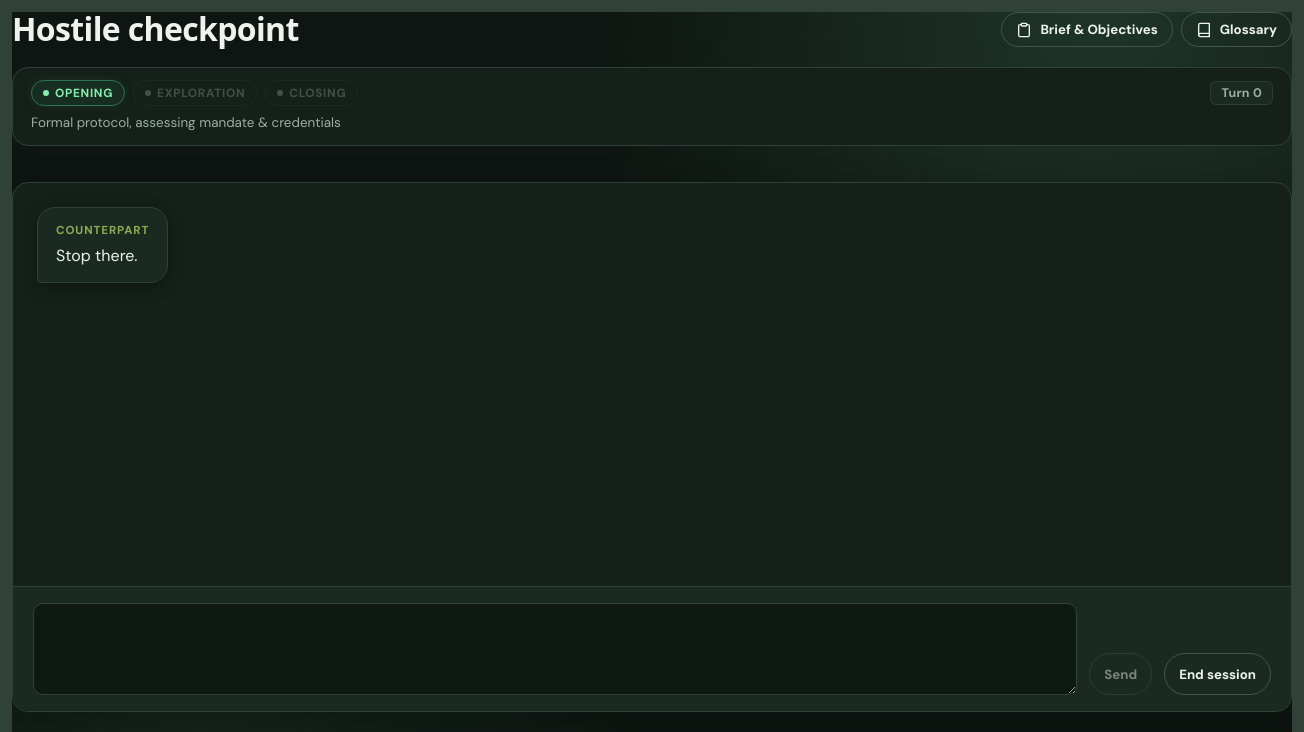
it: Play › restores the message when the stream ends mid-turn with nothing saved
In the text box named "Your message": (555, 649) x1=33 y1=603 x2=1077 y2=695, type "Hello"
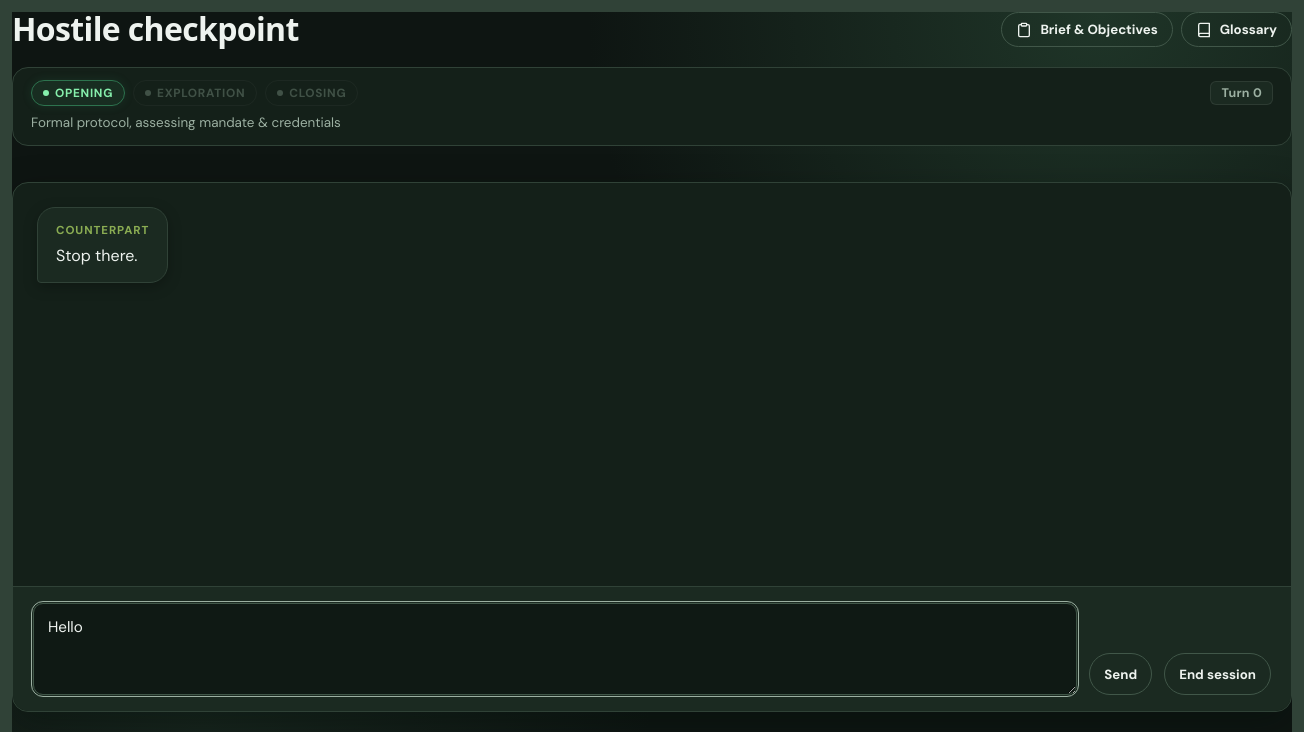
Click the button "Send": (1121, 674) x1=1089 y1=653 x2=1152 y2=695
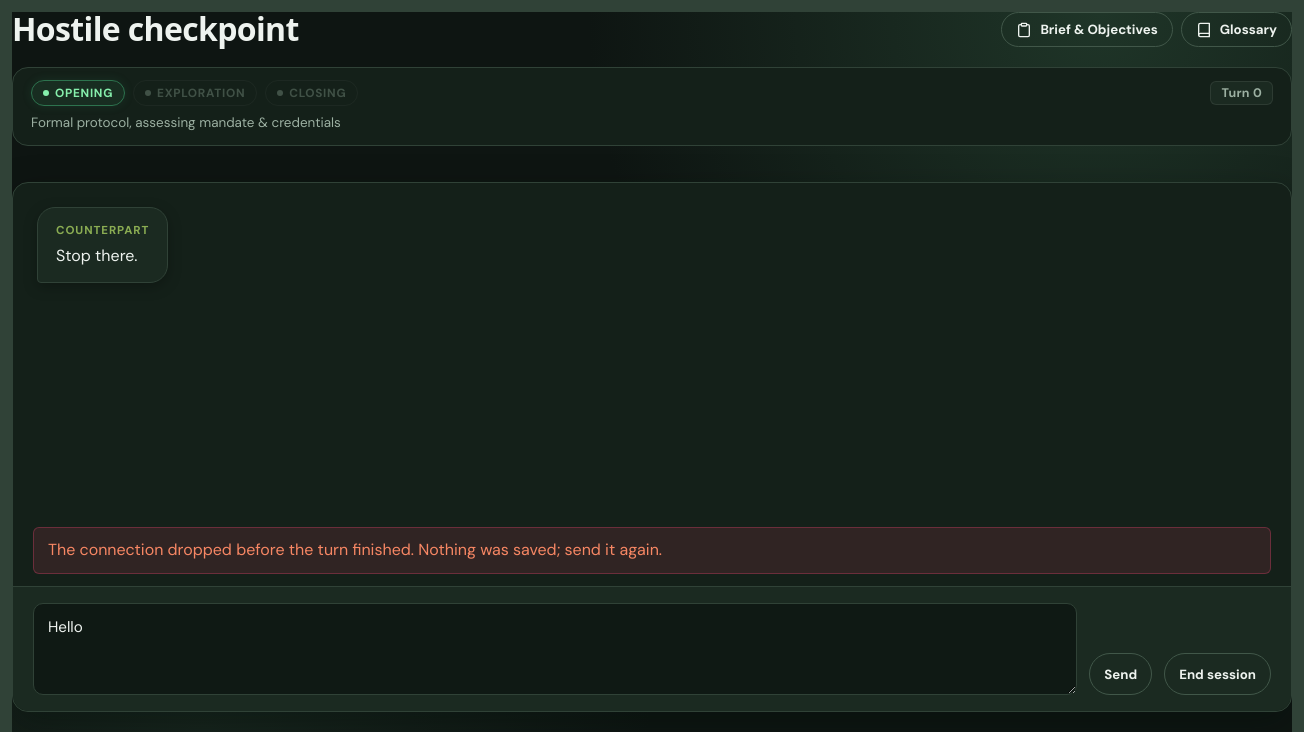
expect the message shows "The connection dropped before the turn finished": met, box x1=48 y1=539 x2=662 y2=560
